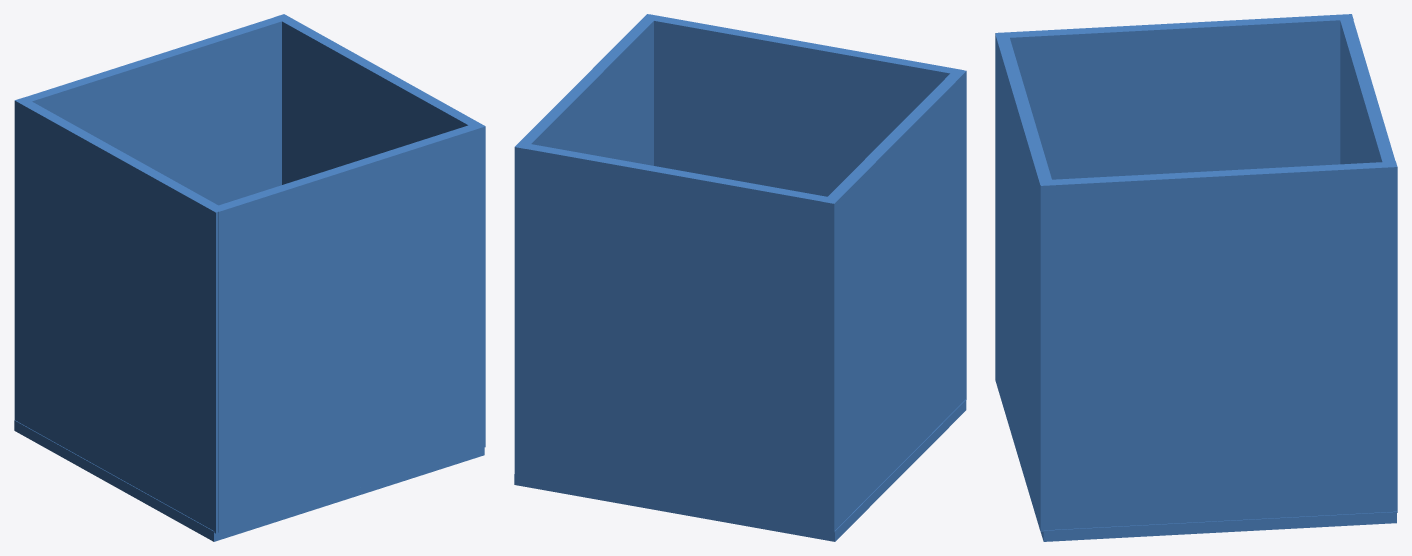
The model's file is Childrens_Room_Box.fbx.
3 views of the same model, side by side, from view 1: azimuth 30°, elevation 25°; view 2: azimuth 150°, elevation 25°; view 3: azimuth 270°, elevation 25° (orthographic). The views are drawn at different scales.
Parts seen in each view (by area): view 1: Childrens_Room_Box; view 2: Childrens_Room_Box; view 3: Childrens_Room_Box.
Boxes of the visible parts, x1,y1,x2,y2 form: Childrens_Room_Box: (14, 14, 485, 541); Childrens_Room_Box: (514, 14, 966, 541); Childrens_Room_Box: (995, 14, 1397, 541).
Bounding box in the file's own units: 67.73 × 65.2 × 66.77.
